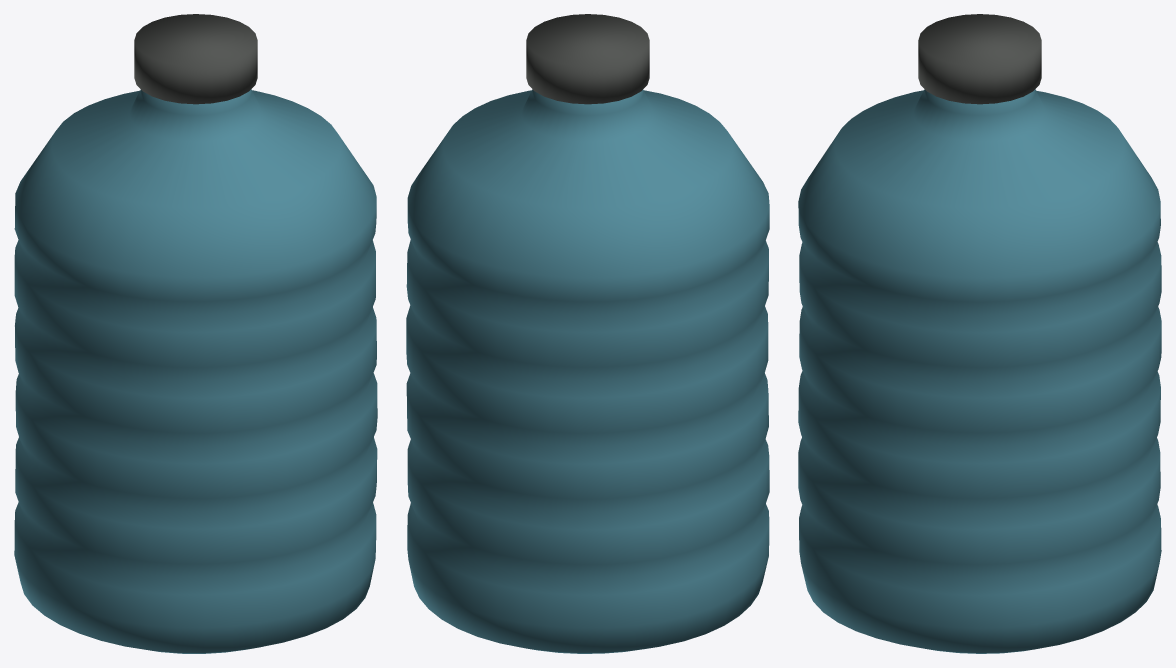
File: RefillWaterGallon.fbx
3 views of the same model, side by side, from view 1: azimuth 30°, elevation 25°; view 2: azimuth 150°, elevation 25°; view 3: azimuth 270°, elevation 25° (orthographic).
Parts seen in each view (by area): view 1: Refillable water gallon, Screw cap; view 2: Refillable water gallon, Screw cap; view 3: Refillable water gallon, Screw cap.
Part boxes in pixels (x1,y1,x2,y2): Refillable water gallon: (14,89,377,653); Screw cap: (134,14,257,104); Refillable water gallon: (406,89,769,653); Screw cap: (526,14,649,104); Refillable water gallon: (798,89,1161,653); Screw cap: (918,14,1041,104).
Size of the model in its own units: 30.12 by 50.75 by 30.12.
